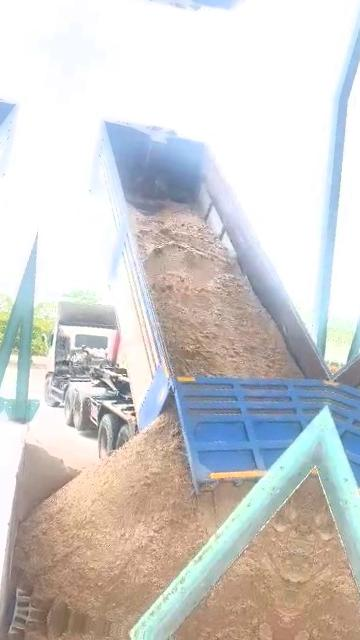sand: (15, 415, 250, 630), (131, 203, 302, 377), (179, 475, 312, 640), (17, 432, 78, 520)
